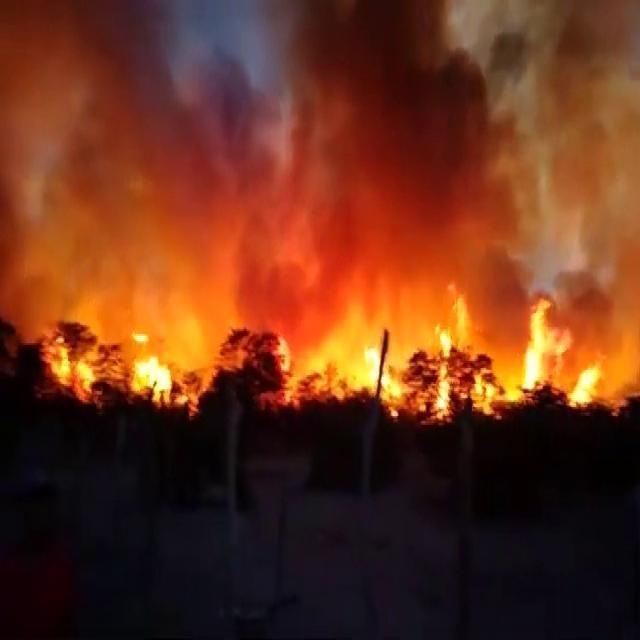Fire: (343, 280, 629, 432), (56, 294, 357, 428)
Smoke: (0, 0, 625, 260)
